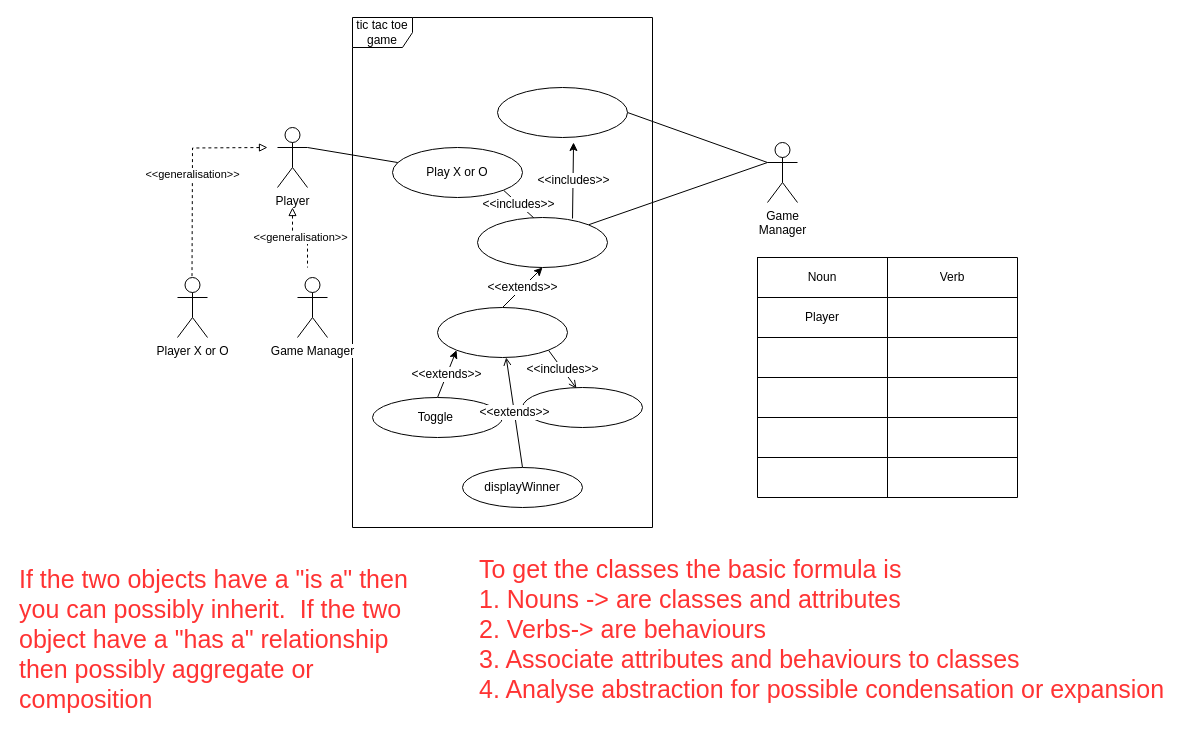
Image size: 1194x732. Some labels were removed from this diagram. The shapes that lost their labels are listed below. From the top down, each one's centre as x and y in pixels, then its label:
the point at 562,112: draw board
the point at 542,242: CheckInput
the point at 502,332: checkWinner
the point at 582,407: checkDraw
